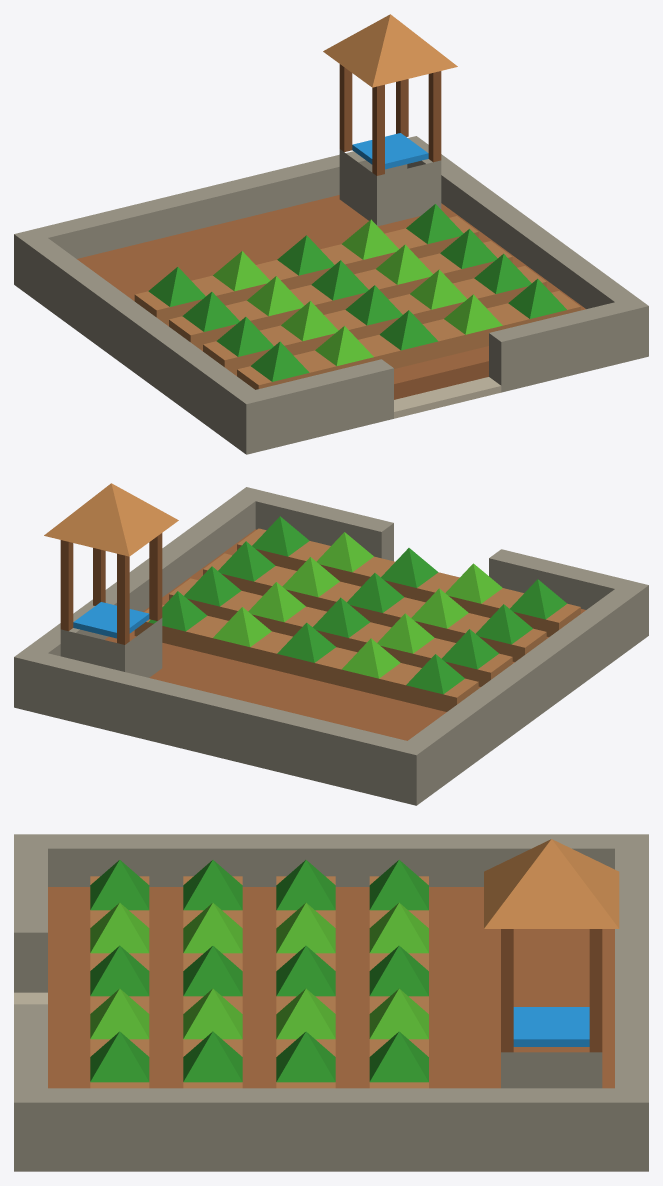
Rendered from field_t3_v2.glb.
The picture shows the model from 3 angles, top to bottom: view 1: azimuth 30°, elevation 25°; view 2: azimuth 150°, elevation 25°; view 3: azimuth 270°, elevation 25°; orthographic projection. The views are drawn at different scales.
Parts seen in each view (by area): view 1: field_t3_v2; view 2: field_t3_v2; view 3: field_t3_v2.
Part boxes in pixels (<box>): field_t3_v2: <box>14,14,648,454</box>; field_t3_v2: <box>14,483,648,805</box>; field_t3_v2: <box>14,834,648,1171</box>.
Size of the model in its own units: 0.75 by 0.38 by 0.75.
1 material, 1 textured.
